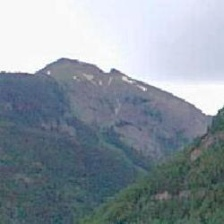neutral: (1, 6, 223, 224)
